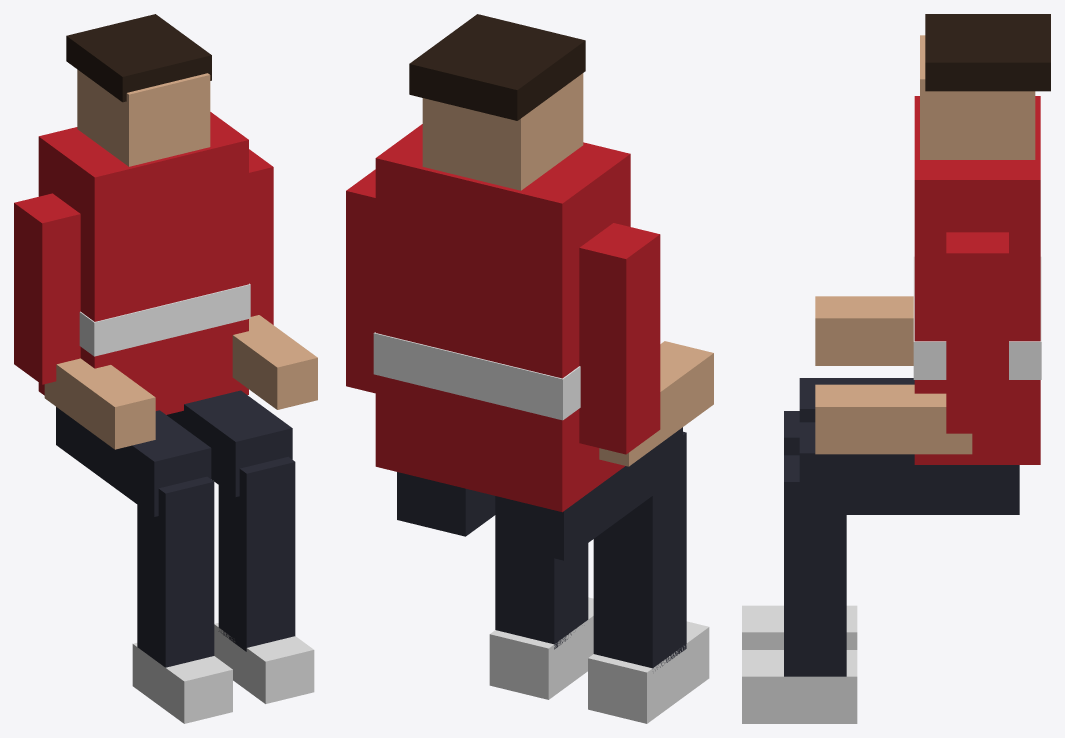
The model's file is aficionado_local.obj.
3 renders of one model, left to right at view 1: azimuth 30°, elevation 25°; view 2: azimuth 150°, elevation 25°; view 3: azimuth 270°, elevation 25°, orthographic. The views are drawn at different scales.
Parts seen in each view (by area): view 1: aficionado_local; view 2: aficionado_local; view 3: aficionado_local.
Boxes of the visible parts, x1,y1,x2,y2 form: aficionado_local: (14, 14, 317, 723); aficionado_local: (346, 14, 713, 723); aficionado_local: (742, 14, 1050, 723).
Bounding box in the file's own units: 0.57 × 1.37 × 0.59.
Materials: 1 (1 with a texture image).
